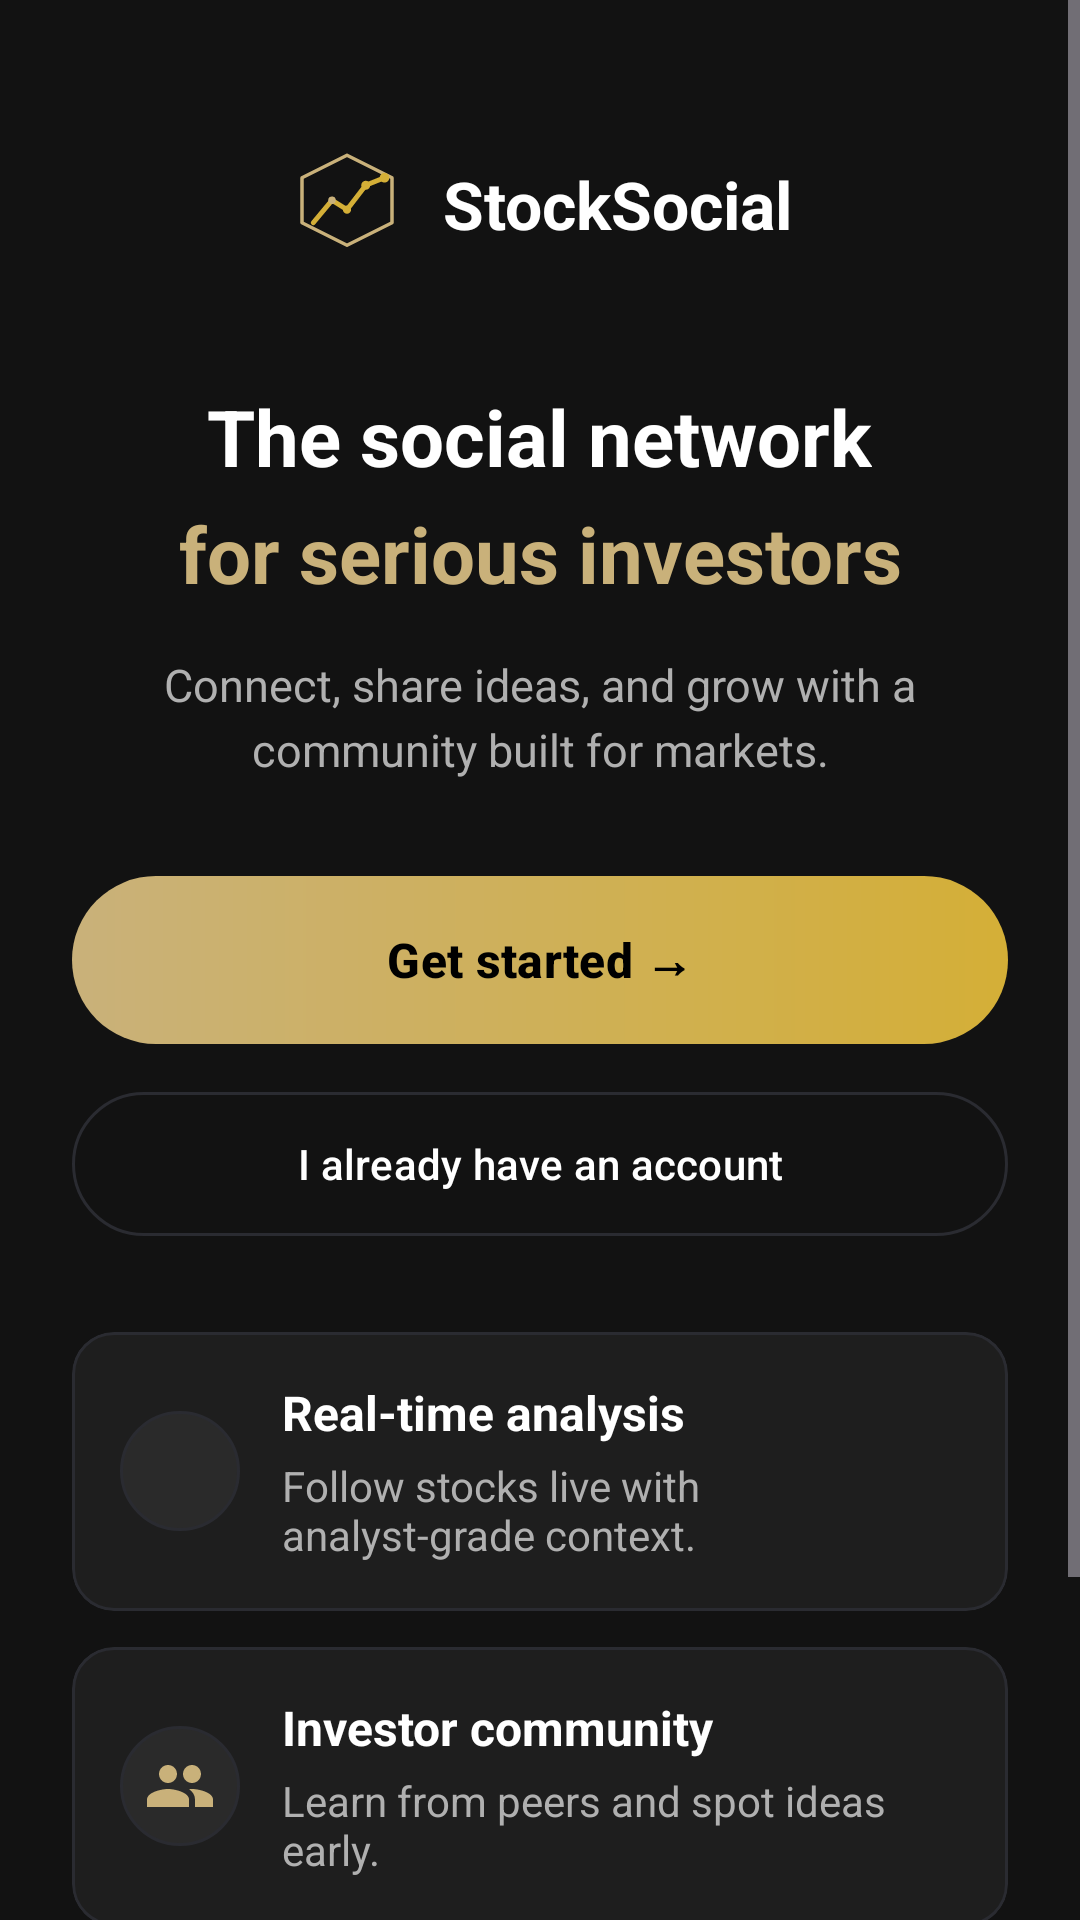

Locate icon controls on the screen. Image size 1080*1920, boxes as detection(x1, y1, x2, y2).
welcome community: detection(147, 1765, 213, 1807)
